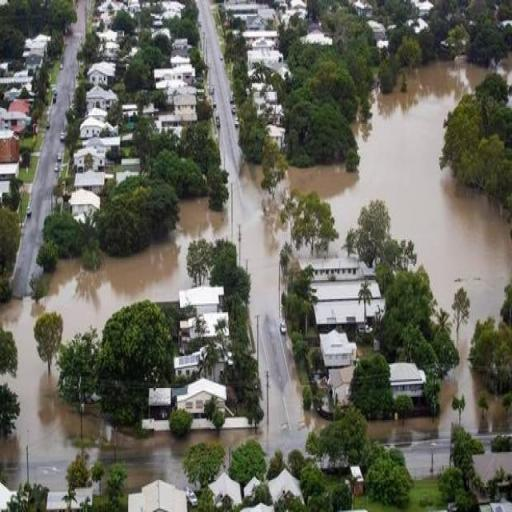flood: (0, 124, 326, 490), (289, 63, 512, 445), (83, 417, 255, 490), (490, 399, 508, 431)
house: (308, 257, 386, 331), (314, 326, 361, 414), (173, 378, 231, 428), (125, 475, 191, 512), (68, 172, 109, 224), (388, 360, 426, 415), (469, 450, 512, 487), (268, 468, 308, 506), (1, 125, 21, 197), (170, 86, 200, 122), (212, 472, 242, 505), (5, 96, 35, 128), (85, 84, 118, 112), (88, 58, 118, 88), (22, 36, 54, 62), (80, 114, 106, 140)
